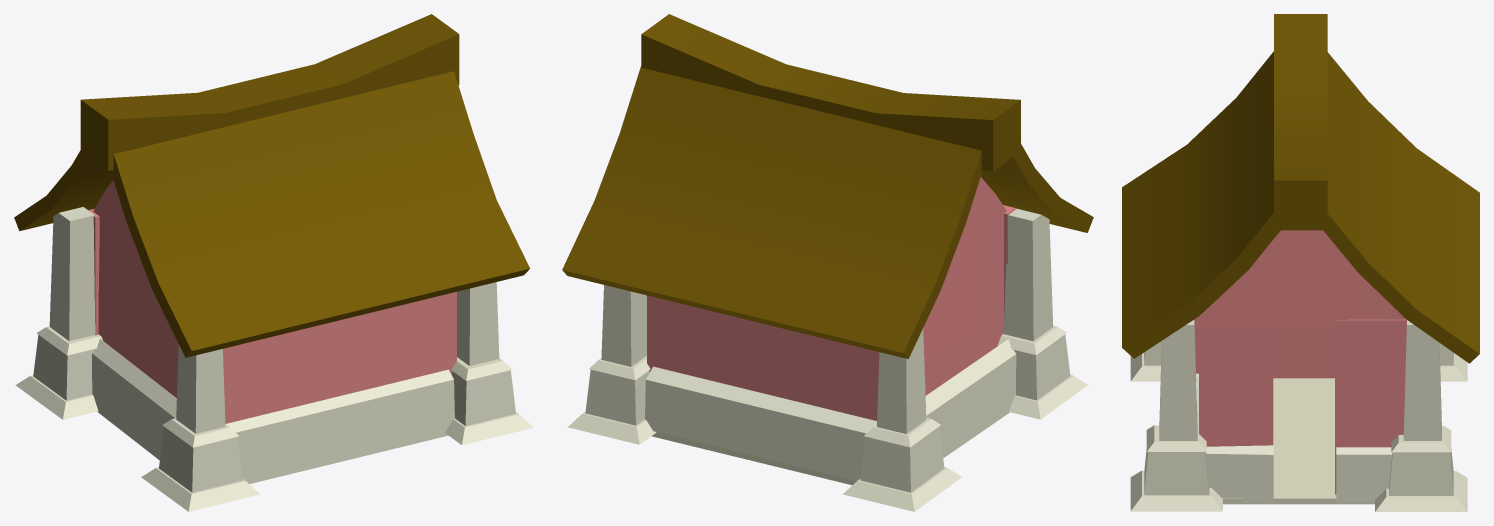
Rendered from House_Part.fbx.
3 renders of one model, left to right at view 1: azimuth 30°, elevation 25°; view 2: azimuth 150°, elevation 25°; view 3: azimuth 270°, elevation 25°, orthographic. The views are drawn at different scales.
Parts seen in each view (by area): view 1: pCube11; view 2: pCube11; view 3: pCube11.
Boxes of the visible parts, box(x1,y1,x2,y2) form: pCube11: box(14, 14, 533, 511); pCube11: box(562, 14, 1093, 511); pCube11: box(1122, 14, 1479, 511).
Size of the model in its own units: 868 by 810 by 783.
